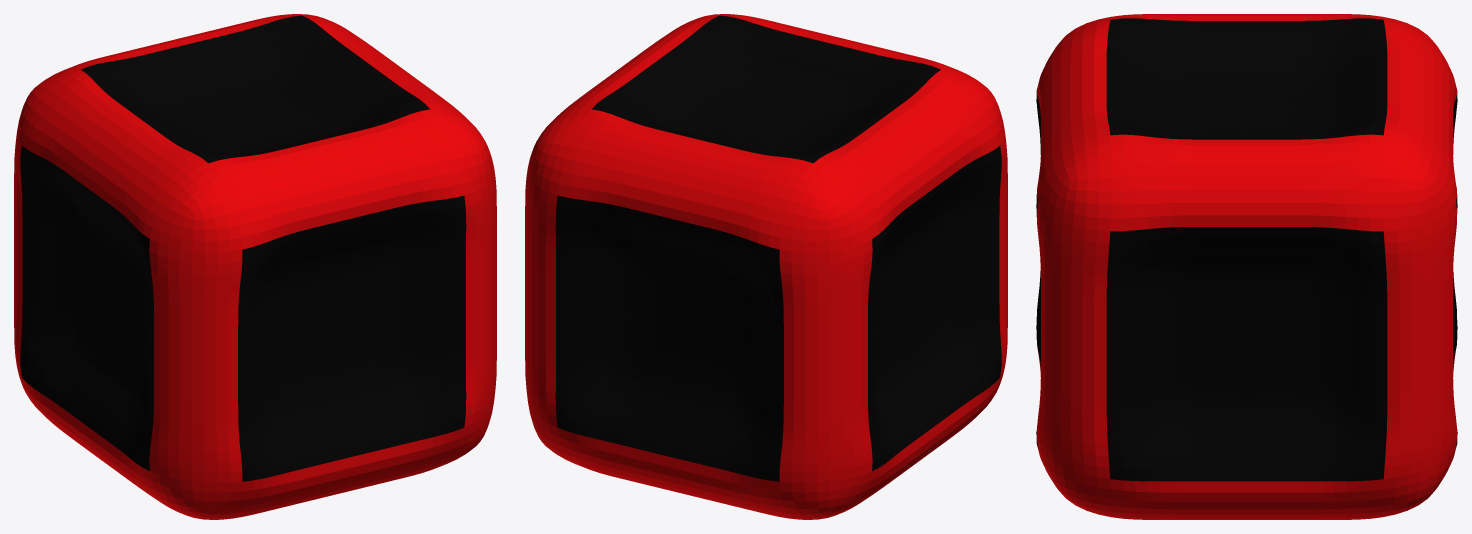
3 views of the same model, side by side, from view 1: azimuth 30°, elevation 25°; view 2: azimuth 150°, elevation 25°; view 3: azimuth 270°, elevation 25° (orthographic). The views are drawn at different scales.
Parts seen in each view (by area): view 1: Cube; view 2: Cube; view 3: Cube.
Part boxes in pixels (left/top/right/bottom): Cube: left=14, top=14, right=496, bottom=519; Cube: left=525, top=14, right=1007, bottom=519; Cube: left=1036, top=14, right=1457, bottom=519.
Bounding box in the file's own units: 244 × 244 × 244.
